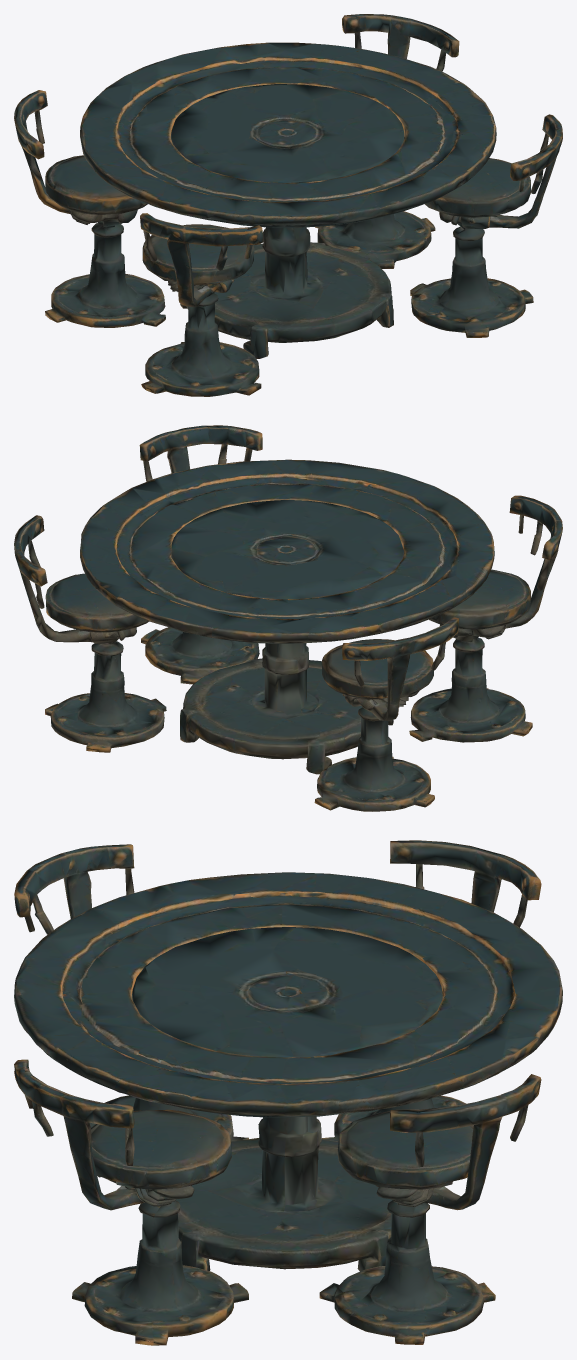
Rendered from messtable.glb.
The picture shows the model from 3 angles, top to bottom: view 1: azimuth 30°, elevation 25°; view 2: azimuth 150°, elevation 25°; view 3: azimuth 270°, elevation 25°; orthographic projection. The views are drawn at different scales.
Size of the model in its own units: 1.9 by 0.8327 by 1.6.
1 material, 1 textured.
